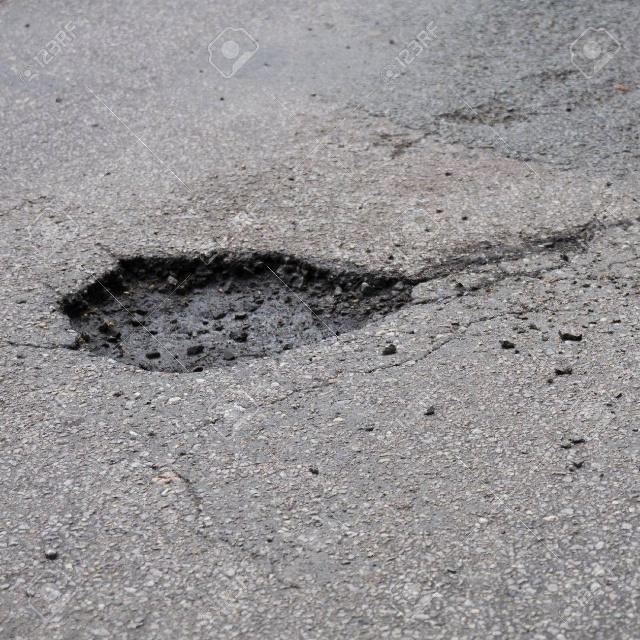pothole: (56, 249, 415, 375)
